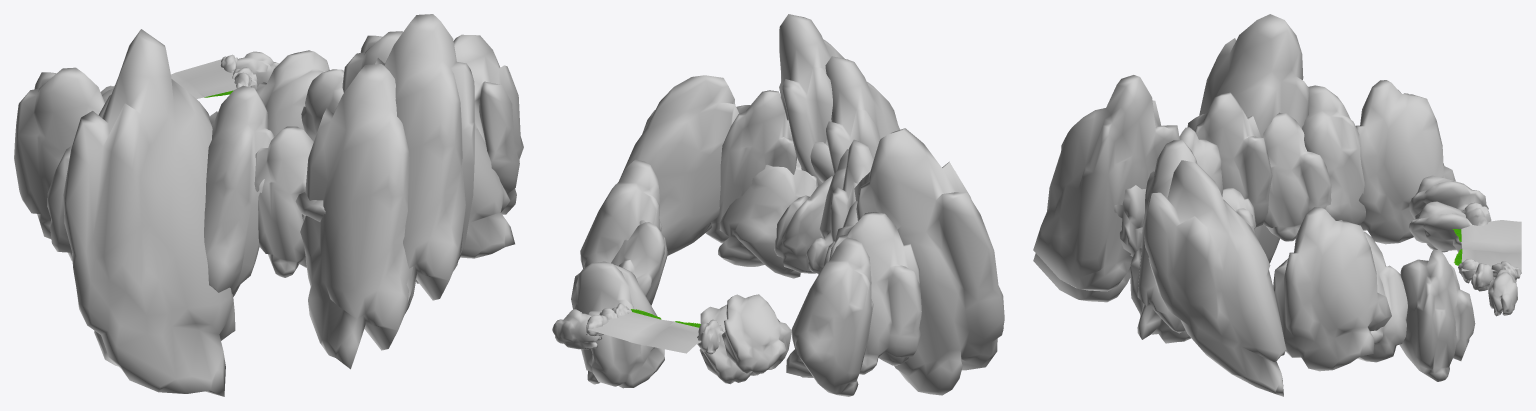
File: forestFloor_end.fbx
The picture shows the model from 3 angles, left to right: view 1: azimuth 30°, elevation 25°; view 2: azimuth 150°, elevation 25°; view 3: azimuth 270°, elevation 25°; orthographic projection. The views are drawn at different scales.
Parts seen in each view (by area): view 1: rock_Swamp_052, rock_Swamp_058, rock_Swamp_059, rock_Swamp_049, rock_Swamp_051, rock_Swamp_053, rock_Swamp_056, rock_Swamp_055, rock_Swamp_063, rock_Swamp_040, polySurface55, rock_Swamp_050 (+3 smaller); view 2: rock_Swamp_052, rock_Swamp_056, rock_Swamp_051, rock_Swamp_050, rock_Swamp_059, rock_Swamp_063, rock_Swamp_039, rock_Swamp_055, rock_Swamp_058, rock_Swamp_057, rock_Swamp_062, rock_Swamp_038 (+9 smaller); view 3: rock_Swamp_056, rock_Swamp_059, rock_Swamp_057, rock_Swamp_051, rock_Swamp_052, rock_Swamp_063, rock_Swamp_048, rock_Swamp_049, rock_Swamp_050, rock_Swamp_055, polySurface55, rock_Swamp_040 (+10 smaller).
Boxes of the visible parts, box(x1,y1,x2,y2) form: rock_Swamp_052: box(63, 29, 235, 396); rock_Swamp_058: box(300, 64, 416, 369); rock_Swamp_059: box(375, 14, 474, 302); rock_Swamp_049: box(204, 85, 274, 296); rock_Swamp_051: box(14, 67, 104, 238); rock_Swamp_053: box(254, 126, 313, 277); rock_Swamp_056: box(453, 34, 523, 214); rock_Swamp_055: box(460, 127, 514, 258); rock_Swamp_063: box(256, 50, 329, 135); rock_Swamp_040: box(301, 69, 344, 141); polySurface55: box(112, 59, 256, 98); rock_Swamp_050: box(47, 95, 110, 261); rock_Swamp_052: box(854, 128, 1004, 395); rock_Swamp_056: box(619, 75, 738, 255); rock_Swamp_051: box(786, 237, 873, 396); rock_Swamp_050: box(829, 212, 921, 374); rock_Swamp_059: box(779, 14, 844, 185); rock_Swamp_063: box(571, 261, 664, 388); rock_Swamp_039: box(718, 158, 818, 278); rock_Swamp_055: box(706, 90, 796, 243); rock_Swamp_058: box(825, 56, 899, 173); rock_Swamp_057: box(580, 159, 662, 268); rock_Swamp_062: box(722, 294, 791, 373); rock_Swamp_038: box(774, 176, 832, 273); rock_Swamp_056: box(1143, 160, 1286, 396); rock_Swamp_059: box(1033, 75, 1179, 291); rock_Swamp_057: box(1273, 207, 1391, 371); rock_Swamp_051: box(1355, 80, 1455, 244); rock_Swamp_052: box(1199, 14, 1309, 263); rock_Swamp_063: box(1399, 249, 1475, 381); rock_Swamp_048: box(1262, 112, 1331, 241); rock_Swamp_049: box(1187, 92, 1272, 227); rock_Swamp_050: box(1302, 85, 1365, 224); rock_Swamp_055: box(1137, 140, 1197, 339); polySurface55: box(1452, 220, 1521, 271); rock_Swamp_040: box(1357, 231, 1407, 362).
Bounding box in the file's own units: 141 × 105 × 152.
